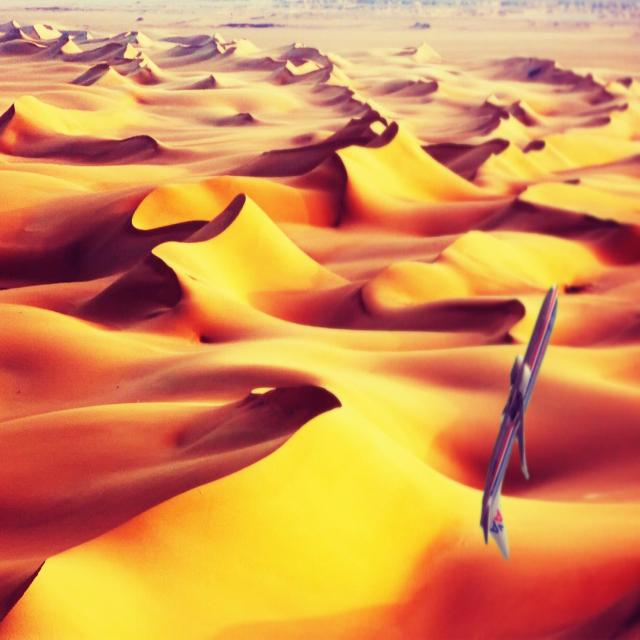airplane: (480, 282, 558, 561)
